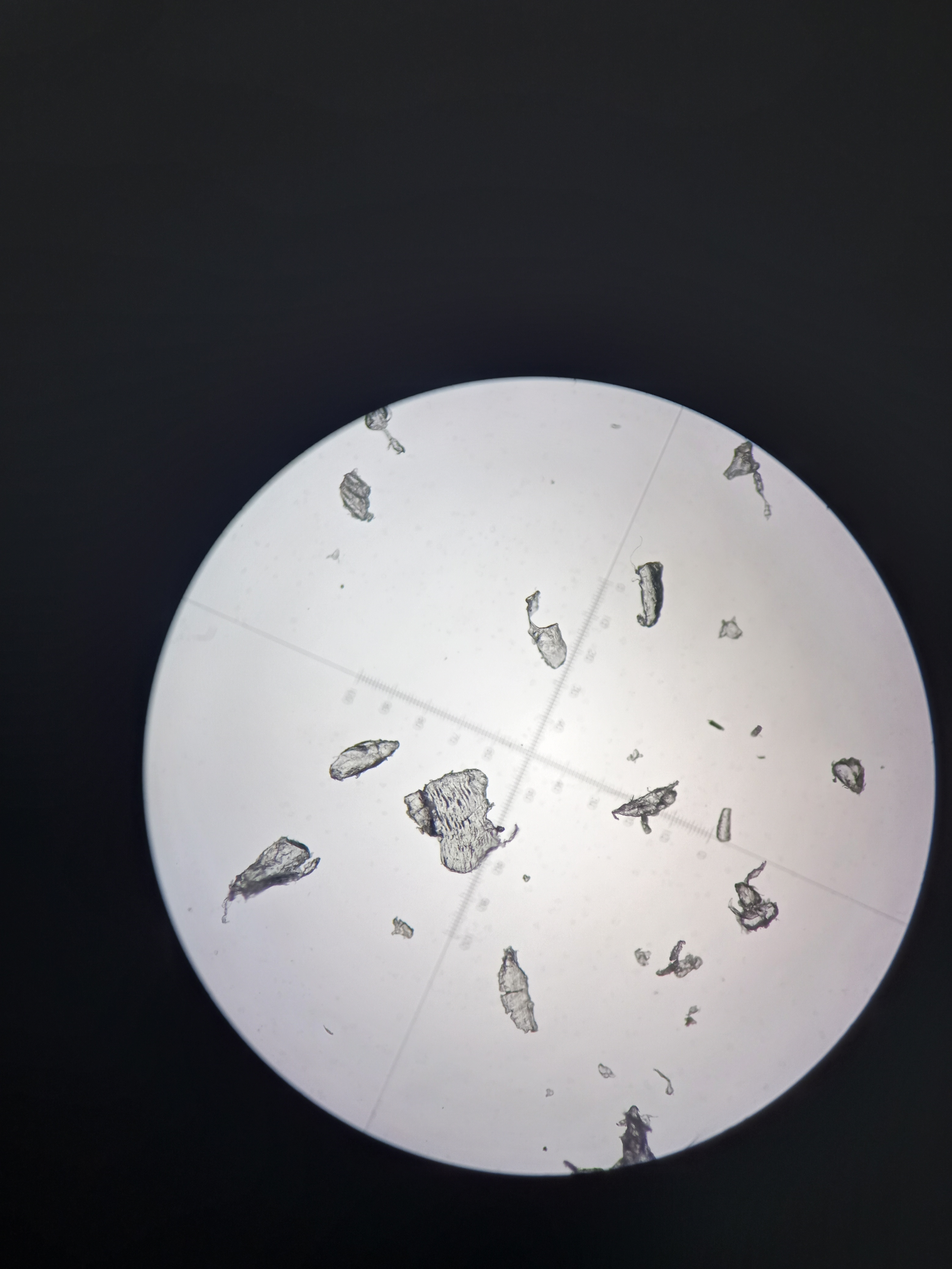microplastic: (403, 766, 522, 875), (225, 836, 332, 926), (560, 1104, 662, 1186), (724, 860, 783, 937), (610, 778, 684, 839), (722, 439, 775, 522), (495, 945, 543, 1036), (522, 588, 569, 672), (628, 536, 668, 634), (326, 735, 402, 783), (360, 402, 409, 459), (338, 468, 379, 528), (656, 938, 706, 983), (828, 755, 868, 796), (717, 614, 745, 643), (715, 804, 734, 846), (390, 914, 417, 942), (653, 1068, 677, 1096), (682, 1004, 704, 1030), (705, 718, 733, 734), (596, 1060, 614, 1080), (625, 748, 646, 764), (635, 947, 651, 967), (327, 547, 343, 562), (321, 1023, 335, 1037), (750, 725, 764, 737), (545, 1087, 556, 1100), (755, 753, 767, 761)
